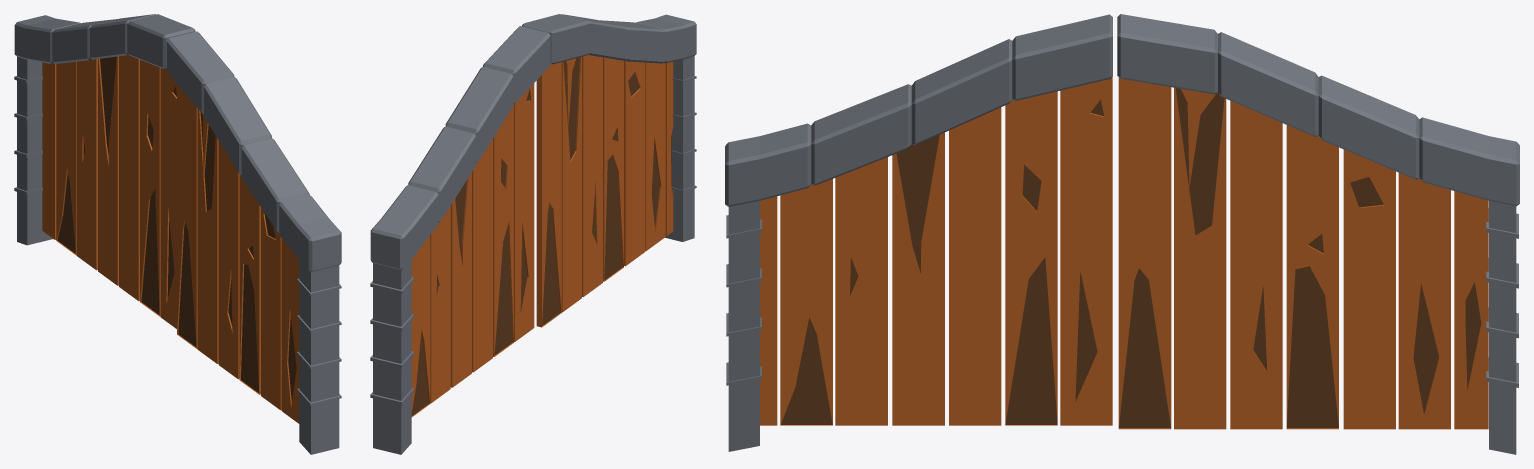
The model's file is IsometricTile_Between_Door.fbx.
3 renders of one model, left to right at view 1: azimuth 30°, elevation 25°; view 2: azimuth 150°, elevation 25°; view 3: azimuth 270°, elevation 25°, orthographic. The views are drawn at different scales.
Parts seen in each view (by area): view 1: Door_Frame, Door_left, Door_Right; view 2: Door_Frame, Door_Right, Door_left; view 3: Door_left, Door_Right, Door_Frame.
Part boxes in pixels (<box>): Door_Frame: <box>14,14,341,454</box>; Door_left: <box>42,55,176,328</box>; Door_Right: <box>177,84,299,423</box>; Door_Frame: <box>370,14,696,454</box>; Door_Right: <box>536,55,673,327</box>; Door_left: <box>411,83,534,417</box>; Door_left: <box>1118,77,1488,429</box>; Door_Right: <box>760,76,1112,425</box>; Door_Frame: <box>725,14,1519,454</box>.
Bounding box in the file's own units: 0.1285 × 2.01 × 1.18.
